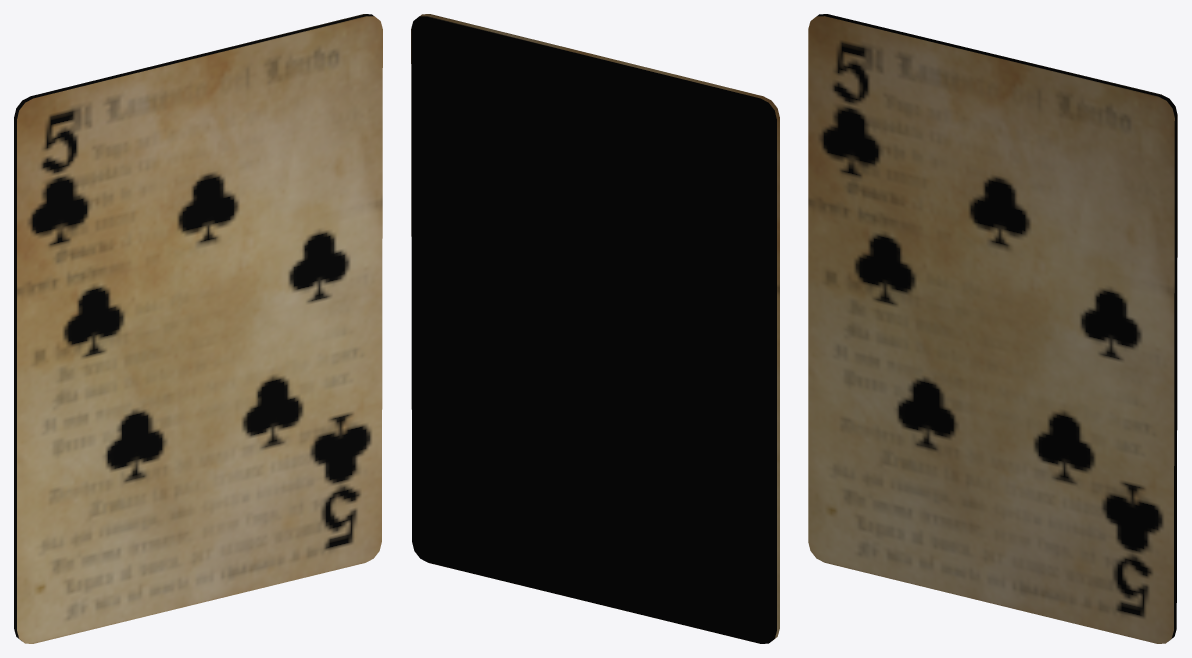
File: Card.005.fbx
The picture shows the model from 3 angles, left to right: view 1: azimuth 30°, elevation 25°; view 2: azimuth 150°, elevation 25°; view 3: azimuth 330°, elevation 25°; orthographic projection.
Visible parts, largest first — view 1: Card.005; view 2: Card.005; view 3: Card.005.
Boxes of the visible parts, <box> form: Card.005: <box>14,14,382,643</box>; Card.005: <box>411,14,779,643</box>; Card.005: <box>808,14,1177,643</box>.
Bounding box in the file's own units: 11.23 × 16.03 × 0.1561.
